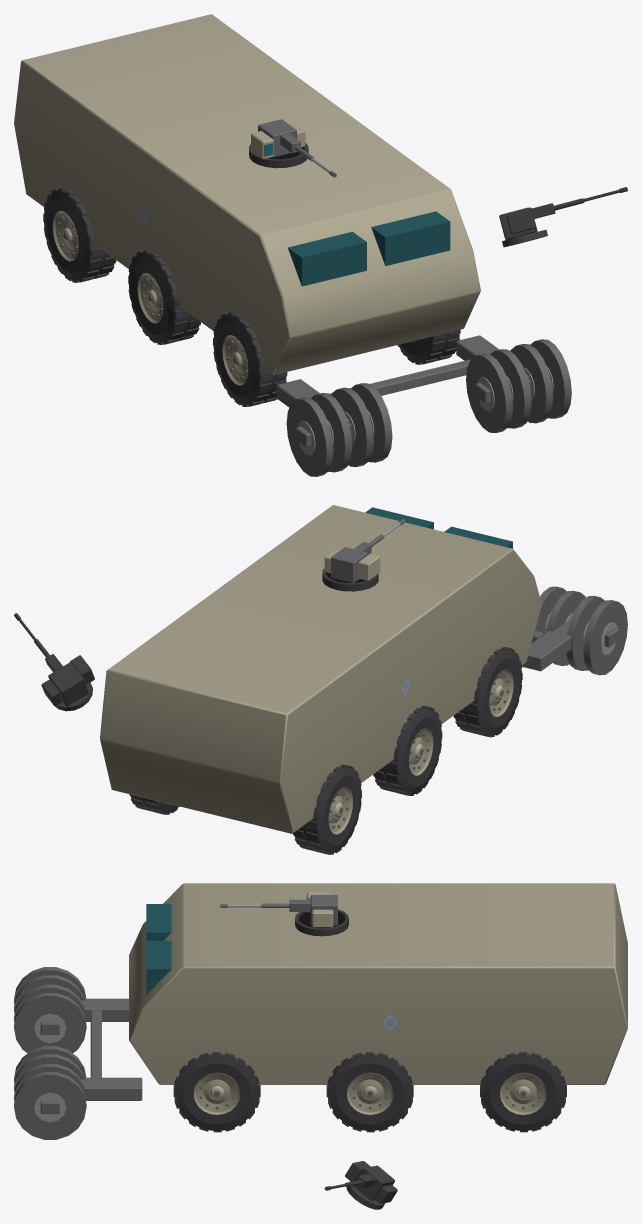
The model's file is mineClearer__sdpmac.glb.
The picture shows the model from 3 angles, top to bottom: view 1: azimuth 30°, elevation 25°; view 2: azimuth 150°, elevation 25°; view 3: azimuth 270°, elevation 25°; orthographic projection. The views are drawn at different scales.
Parts seen in each view (by area): view 1: Hull_Mesh, Wheel_L0_Mesh, Wheel_L2_Mesh, Wheel_L1_Mesh, Wreck, Turret_Mesh, Wheel_R2_Mesh; view 2: Hull_Mesh, Wheel_L0_Mesh, Wheel_L2_Mesh, Wheel_L1_Mesh, Wreck, Turret_Mesh, Wheel_R0_Mesh; view 3: Hull_Mesh, Wheel_R0_Mesh, Wheel_R2_Mesh, Wheel_R1_Mesh, Wreck, Turret_Mesh, Gun_Mesh.
Boxes of the visible parts, x1,y1,x2,y2 form: Hull_Mesh: [14, 14, 571, 476]; Wheel_L0_Mesh: [43, 187, 116, 282]; Wheel_L2_Mesh: [213, 312, 287, 406]; Wheel_L1_Mesh: [128, 249, 200, 344]; Wreck: [128, 143, 627, 388]; Turret_Mesh: [251, 119, 305, 159]; Wheel_R2_Mesh: [397, 329, 460, 364]; Hull_Mesh: [100, 505, 627, 833]; Wheel_L0_Mesh: [293, 764, 361, 854]; Wheel_L2_Mesh: [453, 647, 522, 737]; Wheel_L1_Mesh: [373, 705, 442, 795]; Wreck: [14, 568, 498, 851]; Turret_Mesh: [324, 547, 380, 582]; Wheel_R0_Mesh: [129, 794, 179, 814]; Hull_Mesh: [14, 883, 627, 1139]; Wheel_R0_Mesh: [480, 1052, 566, 1132]; Wheel_R2_Mesh: [173, 1052, 260, 1132]; Wheel_R1_Mesh: [326, 1052, 413, 1132]; Wreck: [201, 909, 547, 1209]; Turret_Mesh: [306, 892, 337, 927]; Gun_Mesh: [220, 899, 310, 911].
Size of what is drawn, in the model's own units: 6.21 by 2.58 by 7.62.
